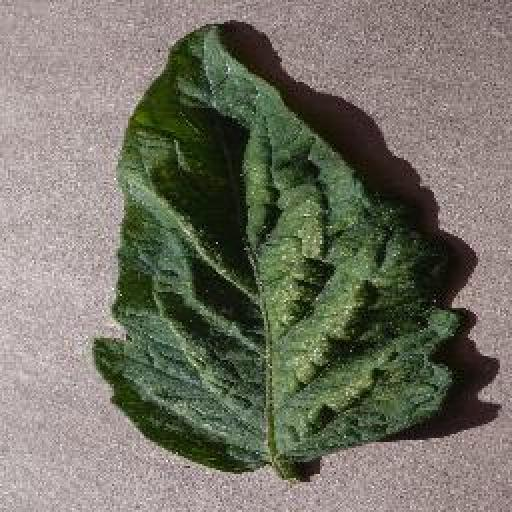disease_tomato: (94, 20, 458, 473)
